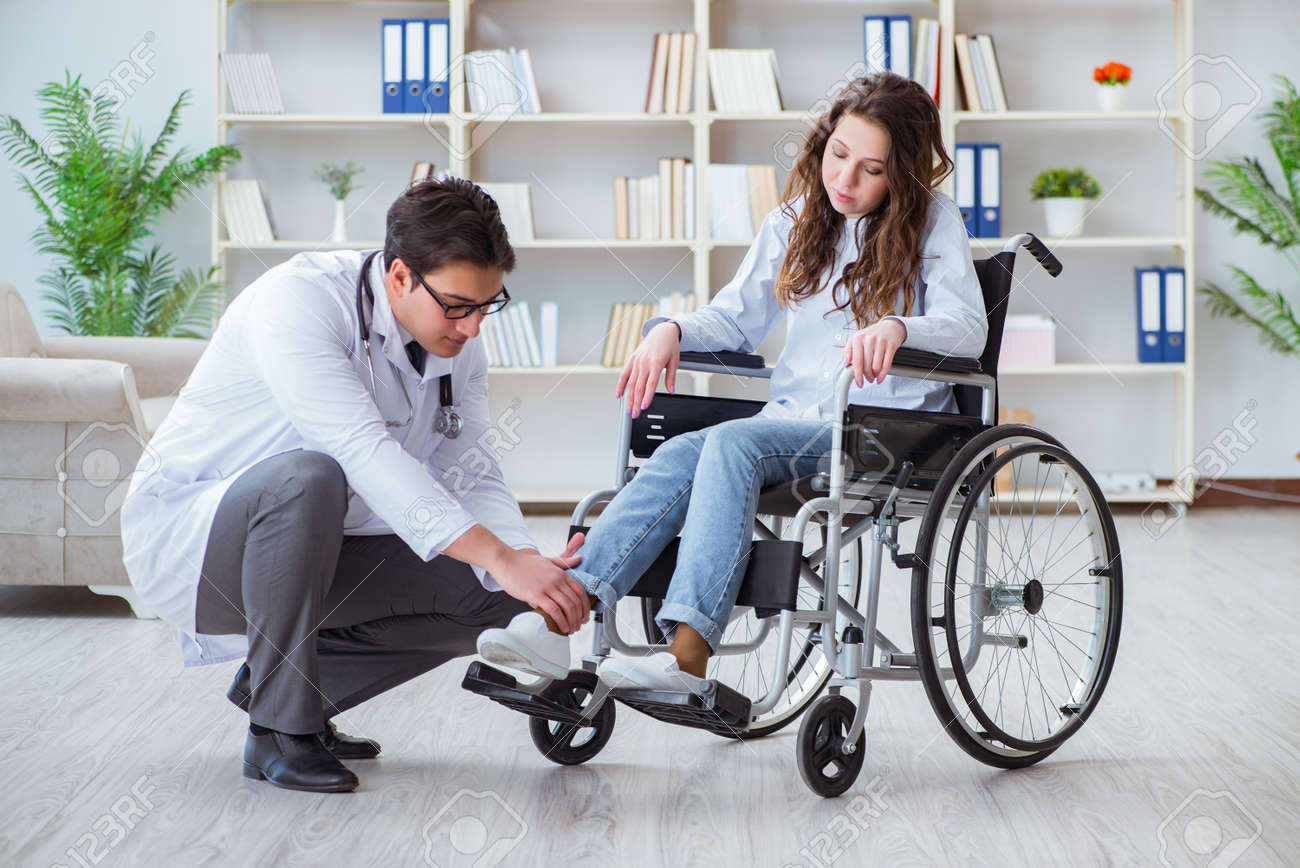wheelchair: (465, 75, 1126, 796)
